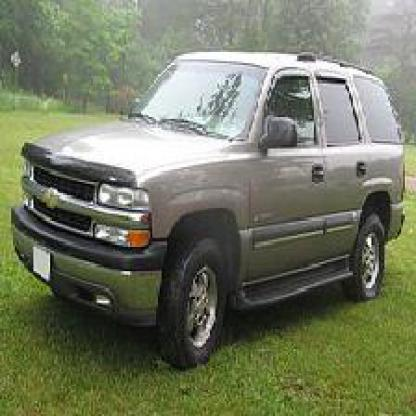not_emergency: (15, 45, 412, 373)
